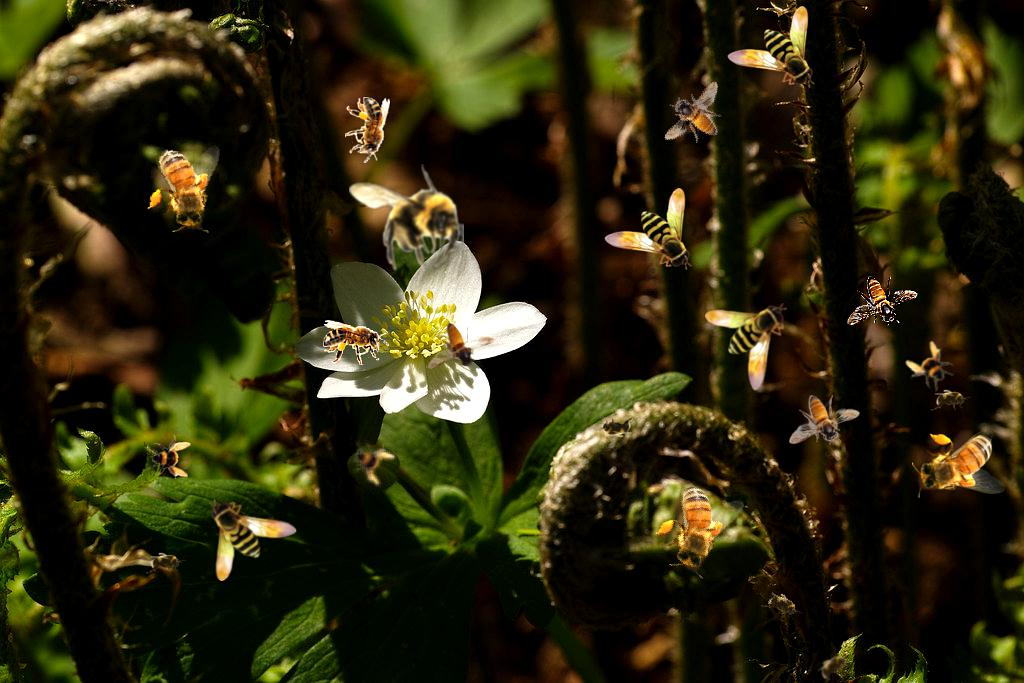Bee: (642, 468, 750, 585), (349, 164, 464, 271), (140, 134, 226, 239), (705, 303, 787, 391), (604, 188, 692, 270), (209, 499, 297, 581), (727, 6, 815, 88), (651, 79, 737, 156), (912, 430, 1005, 498), (898, 336, 962, 400), (341, 430, 401, 490), (426, 321, 497, 371), (789, 395, 860, 445), (847, 276, 918, 326), (323, 320, 389, 365), (345, 97, 390, 163), (147, 435, 191, 479), (760, 586, 806, 626), (811, 646, 857, 683), (931, 389, 971, 411), (146, 552, 186, 574), (596, 416, 636, 438)
